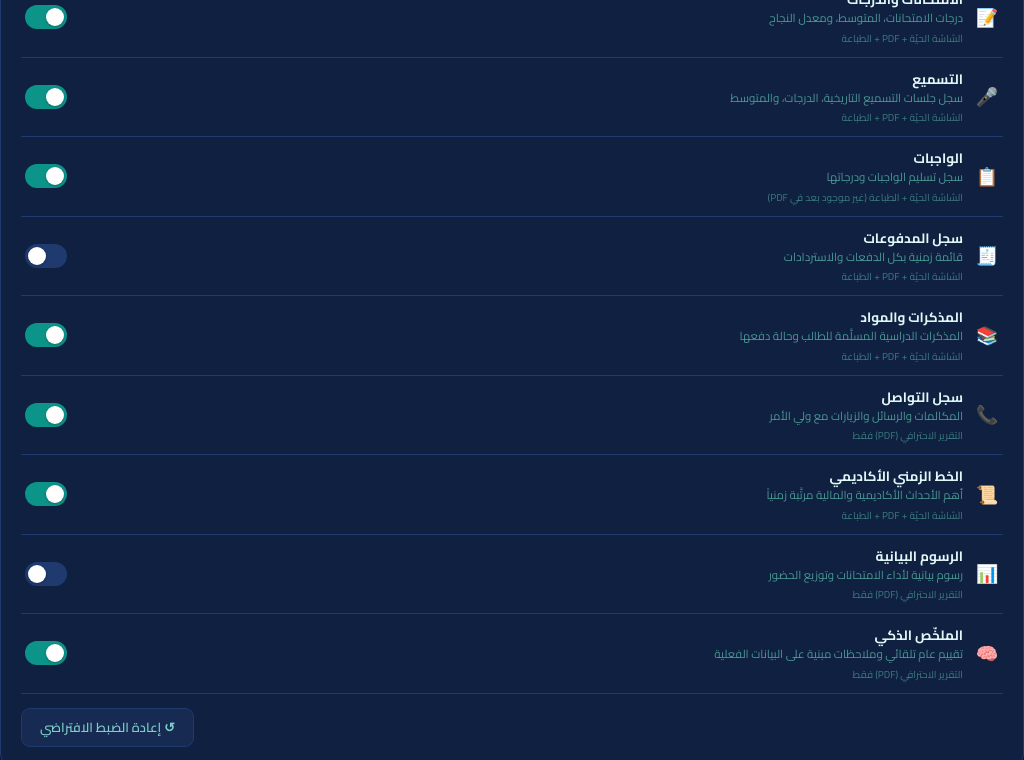
Test: ReportSettingsSection — reset to default › restores every flag to DEFAULT_REPORT_CONFIG and clears persisted storage after confirming
The width and height of the screenshot is (1024, 760).
(page scrolled)
Click the button "↺ إعادة الضبط الافتراضي". click: (107, 727)
box: [21,708,194,747]
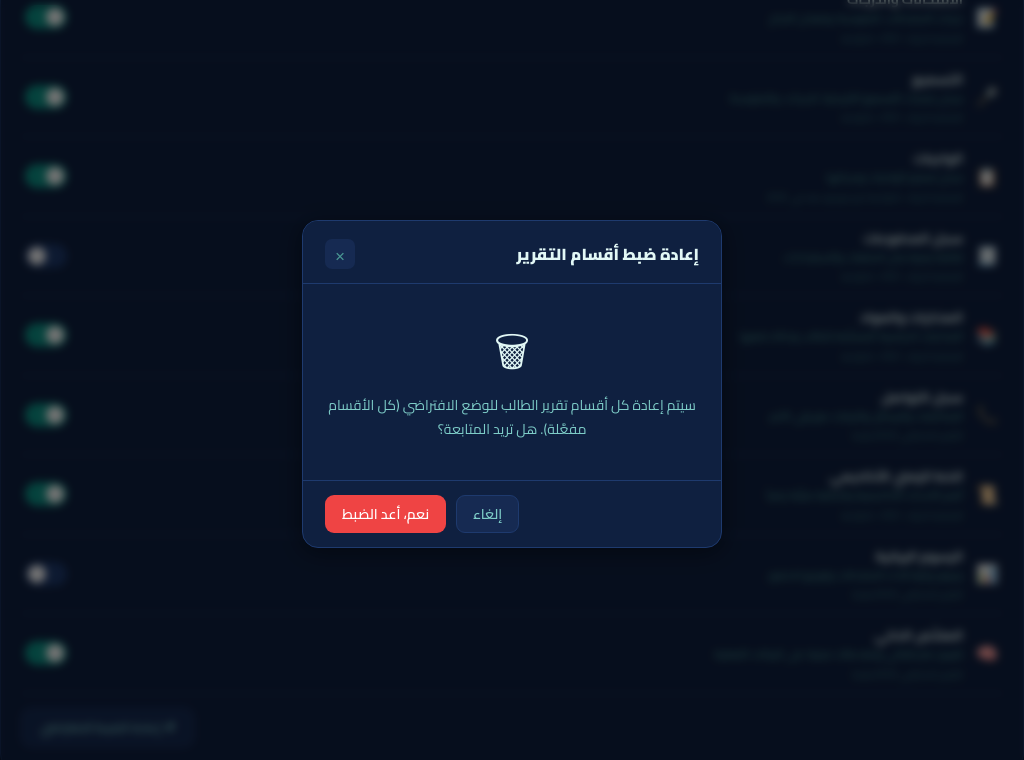
Click the button "نعم، أعد الضبط". click: (386, 514)
box: [325,495,446,533]
(page scrolled)
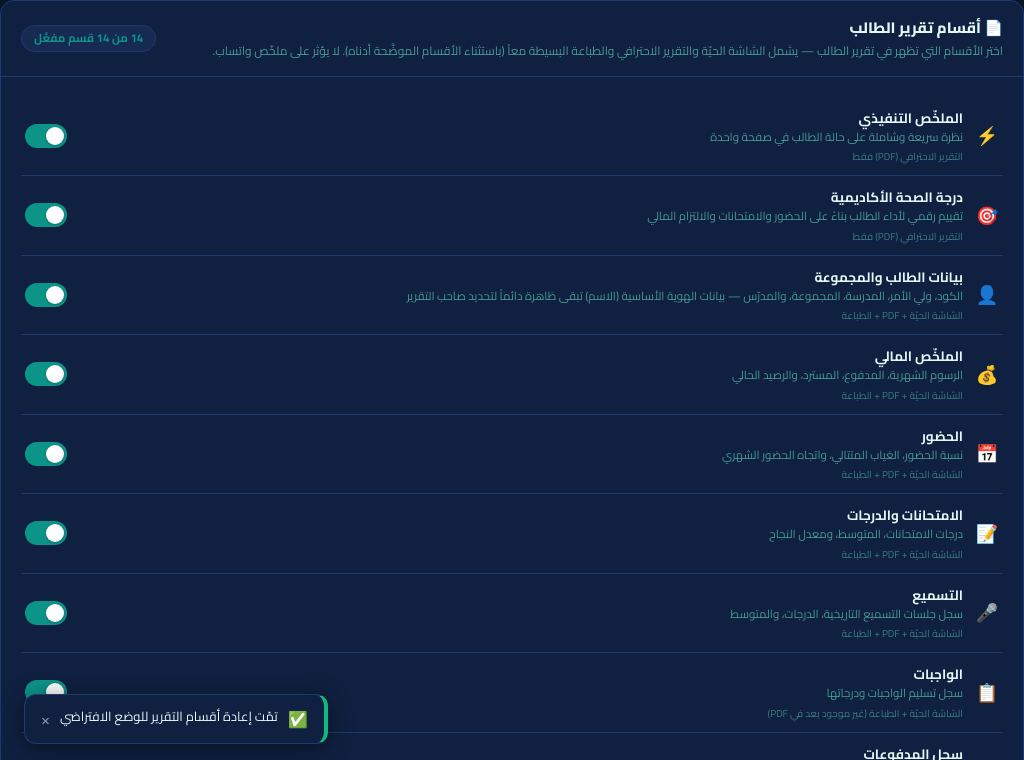
Check: the text "14 من 14 قسم مفعَّل" is shown, box [21,25,156,52]
